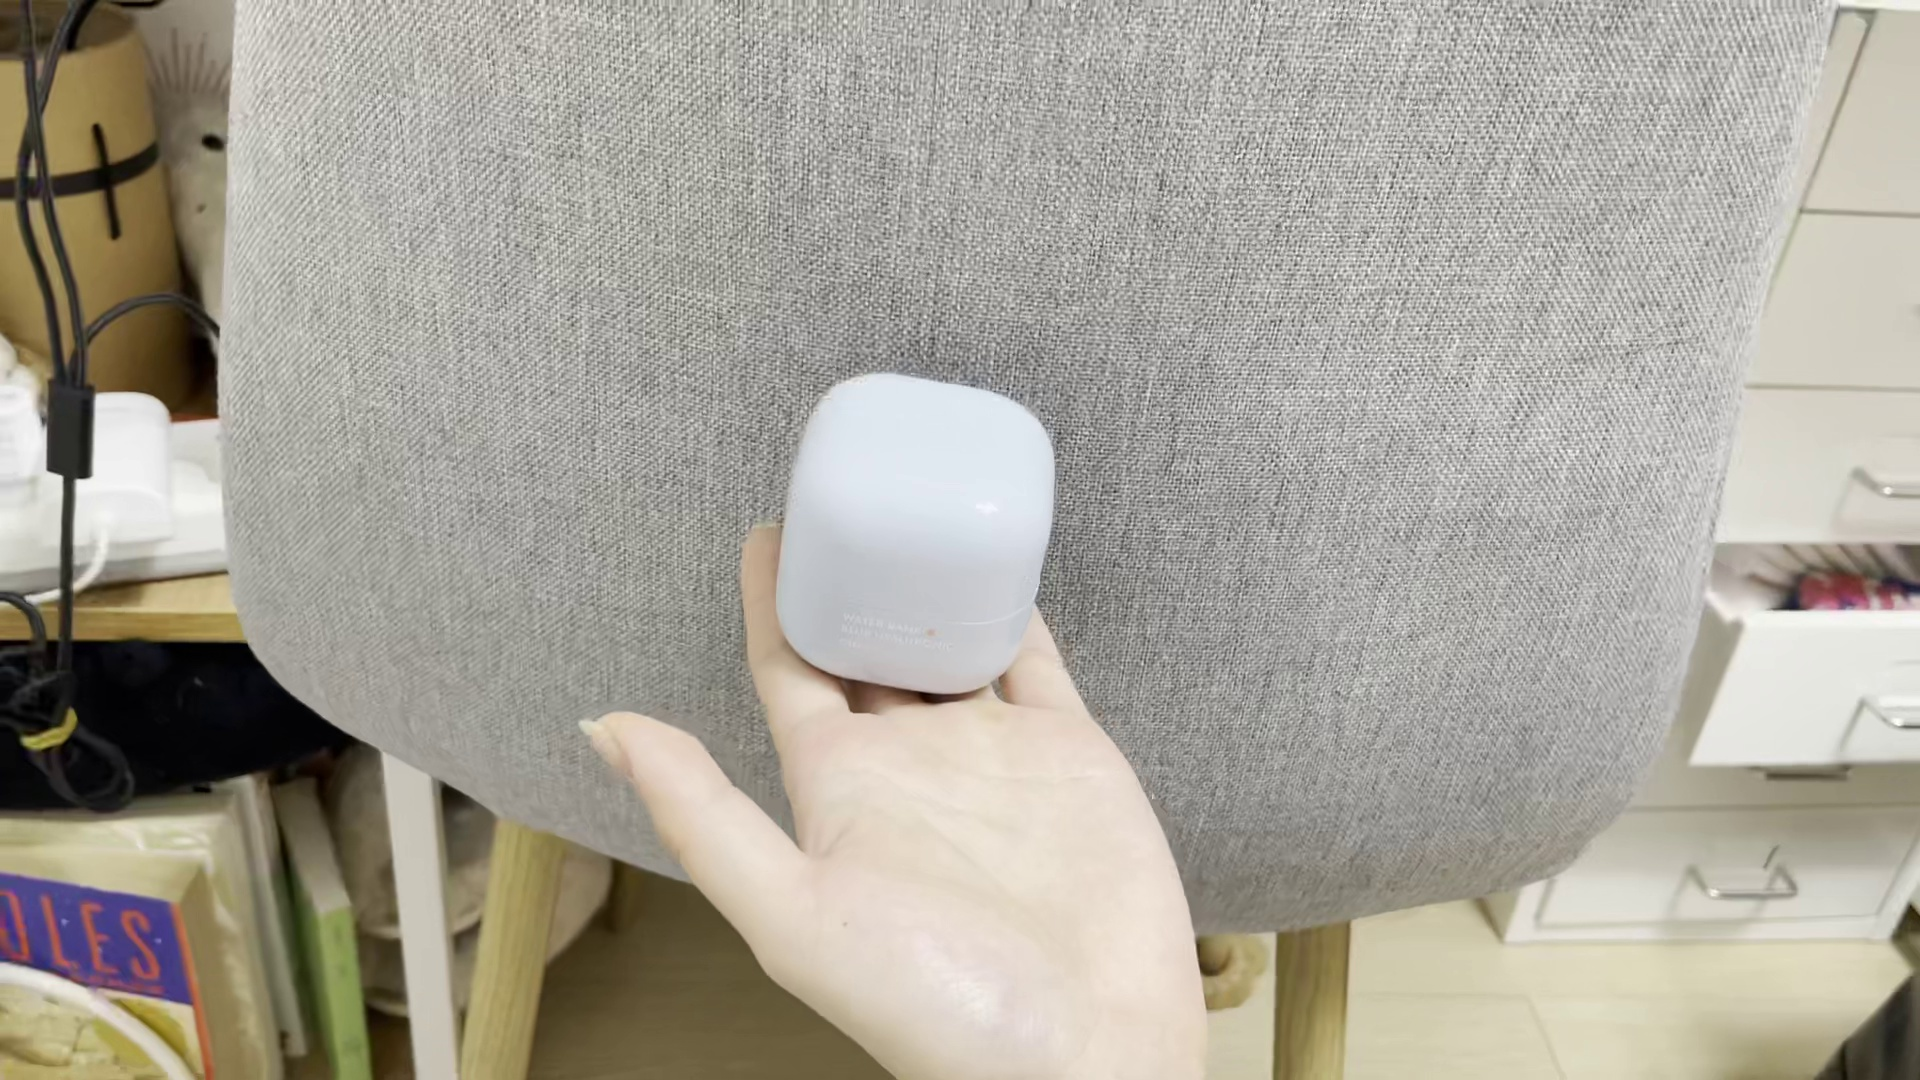cream: (781, 380, 1050, 692)
